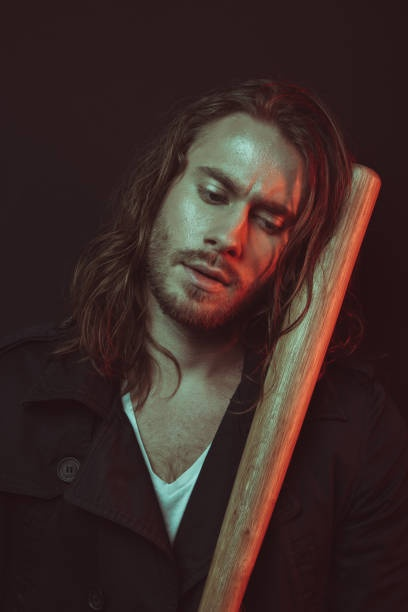bita: (187, 170, 375, 612)
